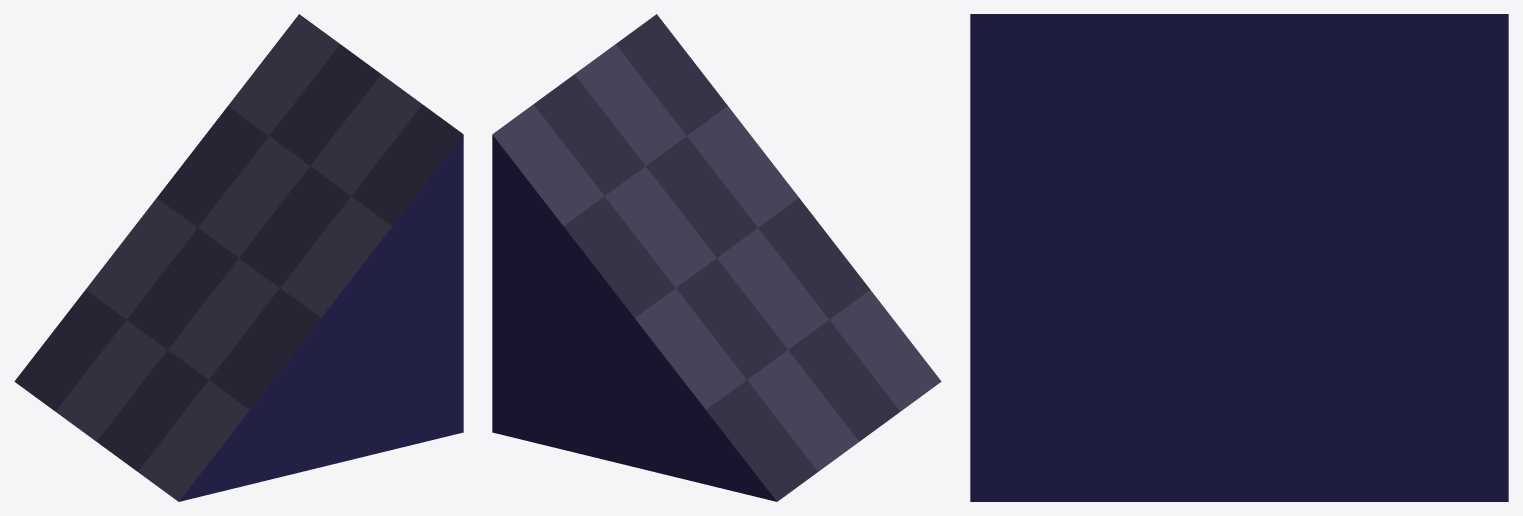
Rendered from ramp_dark.glb.
The picture shows the model from 3 angles, left to right: view 1: azimuth 30°, elevation 25°; view 2: azimuth 150°, elevation 25°; view 3: azimuth 270°, elevation 25°; orthographic projection. The views are drawn at different scales.
Parts seen in each view (by area): view 1: Body; view 2: Body; view 3: Body.
Part boxes in pixels (x1,y1,x2,y2): Body: (14,14,463,501); Body: (492,14,941,501); Body: (970,14,1508,501).
Bounding box in the file's own units: 1 × 1 × 1.
